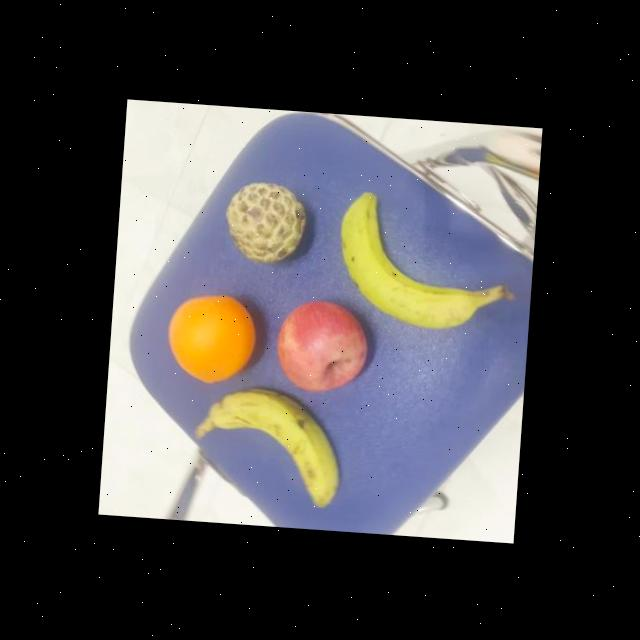Sakya fruit: (218, 178, 310, 270)
apple: (272, 296, 370, 395)
banana: (331, 187, 485, 336), (202, 384, 348, 510)
orange: (161, 289, 260, 385)
